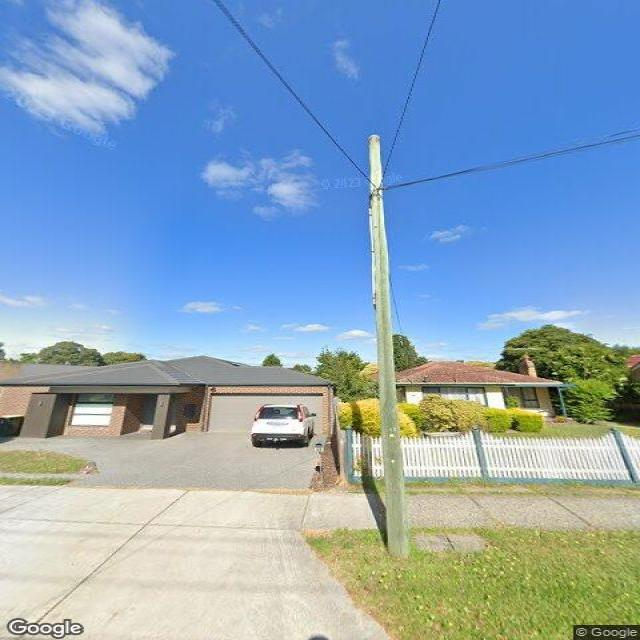timber-pole: (366, 134, 411, 561)
